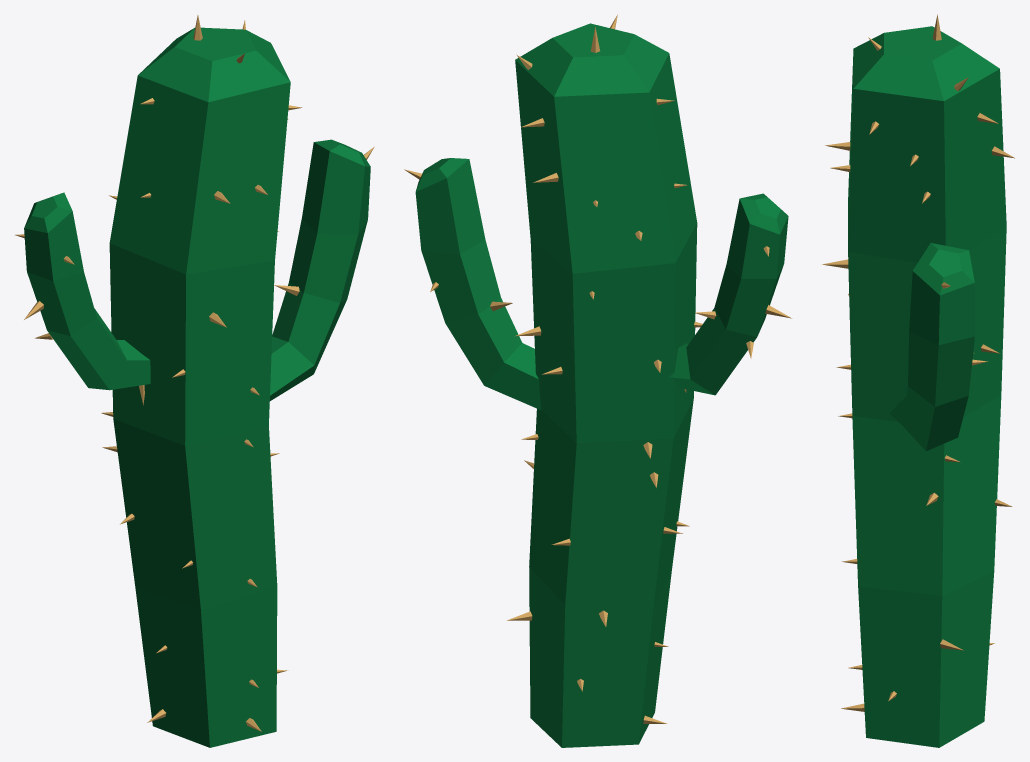
File: Kaktus2_Einzelobjekt.fbx
3 views of the same model, side by side, from view 1: azimuth 30°, elevation 25°; view 2: azimuth 150°, elevation 25°; view 3: azimuth 270°, elevation 25° (orthographic).
Visible parts, largest first — view 1: Cylinder.059; view 2: Cylinder.059; view 3: Cylinder.059.
Boxes of the visible parts, <box> form: Cylinder.059: <box>15,15,374,747</box>; Cylinder.059: <box>404,14,791,747</box>; Cylinder.059: <box>821,14,1014,747</box>.
Bounding box in the file's own units: 98.45 × 179 × 44.89.
